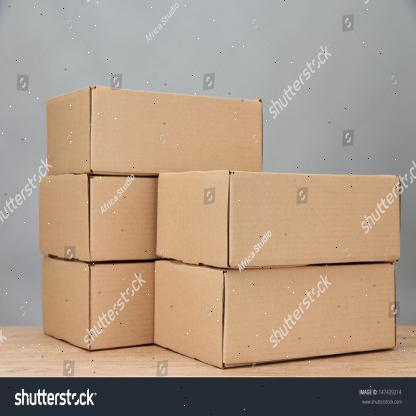box: (222, 263, 397, 368), (228, 173, 400, 265), (90, 89, 262, 176), (89, 261, 155, 352), (90, 174, 157, 261)
